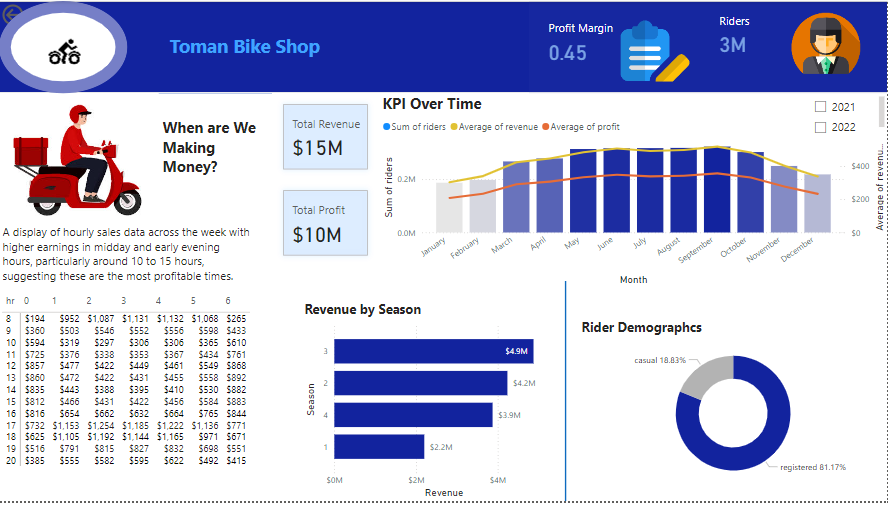

The dashboard page shown, as its layout file describes it:
{"tool":"powerbi","page":{"name":"Page 1","canvas":[1280,720],"ordinal":0},"visuals":[{"type":"shape","box":[0,0,1280,132.7],"z":0},{"type":"pivotTable","fields":{"Values":["Avg(Query1.revenue)"],"Rows":["Query1.hr"],"Columns":["Query1.weekday"]},"box":[0,418.3,393.1,278.8],"z":1000},{"type":"lineClusteredColumnComboChart","title":"KPI Over Time","fields":{"Category":["Query1.dteday.Variation.Date Hierarchy.Year","Query1.dteday.Variation.Date Hierarchy.Quarter","Query1.dteday.Variation.Date Hierarchy.Month","Query1.dteday.Variation.Date Hierarchy.Day"],"Y":["Sum(Query1.riders)"],"Y2":["Avg(Query1.revenue)","Avg(Query1.profit)"]},"box":[547.6,132.7,732.4,282.2],"z":2000},{"type":"clusteredBarChart","fields":{"Category":["Query1.season"],"Y":["Sum(Query1.revenue)"]},"box":[435.1,430,381.3,290.6],"z":3000},{"type":"cardVisual","fields":{"Data":["Min(Query1.riders)"]},"box":[0,132.7,230.1,184.8],"z":4000},{"type":"textbox","box":[230.1,162.9,162.9,99.1],"z":5000},{"type":"actionButton","box":[0,0,100,40],"z":6000},{"type":"donutChart","title":"Rider Demographcs","fields":{"Category":["Query1.rider_type"],"Y":["Sum(Query1.riders)"]},"box":[833.2,456.9,446.8,249],"z":7000},{"type":"shape","box":[734.1,403.1,162.9,317.5],"z":8000},{"type":"textbox","box":[0,317.5,369.6,100.8],"z":9000},{"type":"cardVisual","title":"KPI Over time","fields":{"Data":["Sum(Query1.revenue)","Sum(Query1.profit)"]},"box":[393.1,132.7,154.5,250.3],"z":10000},{"type":"cardVisual","title":"KPI Over time","fields":{"Data":["Query1.Profit Margin","Sum(Query1.riders)"]},"box":[762.6,0,517.4,132.7],"z":11000},{"type":"textbox","box":[240.2,40.3,294,58.8],"z":12000},{"type":"shape","box":[0,0,184.8,132.7],"z":13000},{"type":"cardVisual","fields":{"Data":["Sum(Query1.price)"]},"box":[50.4,33.6,92.4,63.8],"z":14000},{"type":"slicer","title":"Year","fields":{"Values":["Query1.Year"]},"box":[1162.1,132.5,118.1,66.2],"z":15000}]}

Visuals, with their boxes in screenshot pixels (x1, y1, x2, y2), scaled from the page's 1280x720 canvas onto the 888x506 screenshot:
shape: [0, 0, 887, 93]
pivotTable - Avg(Query1.revenue) x Query1.hr: [0, 294, 273, 490]
"KPI Over Time" lineClusteredColumnComboChart: [380, 93, 887, 292]
clusteredBarChart - Query1.season x Sum(Query1.revenue): [302, 302, 566, 505]
cardVisual - Min(Query1.riders): [0, 93, 160, 223]
textbox: [160, 114, 273, 184]
actionButton: [0, 0, 69, 28]
"Rider Demographcs" donutChart: [578, 321, 887, 496]
shape: [509, 283, 622, 505]
textbox: [0, 223, 256, 294]
"KPI Over time" cardVisual: [273, 93, 380, 269]
"KPI Over time" cardVisual: [529, 0, 887, 93]
textbox: [167, 28, 371, 70]
shape: [0, 0, 128, 93]
cardVisual - Sum(Query1.price): [35, 24, 99, 68]
"Year" slicer: [806, 93, 887, 140]
